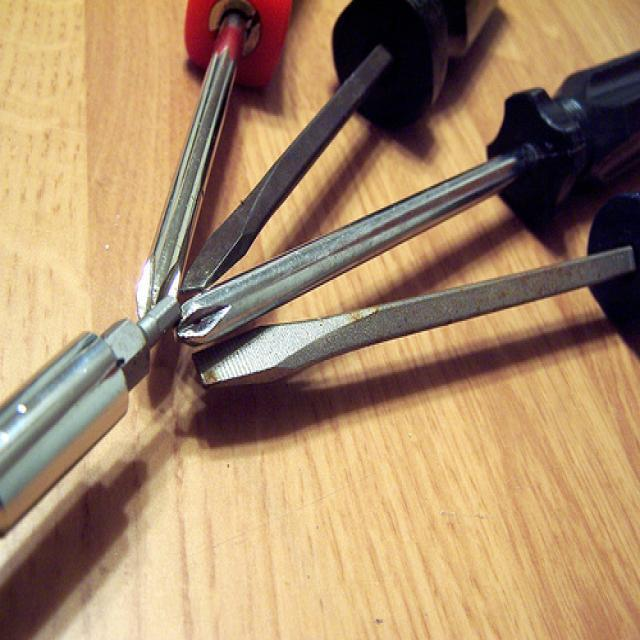screwdriver: (178, 58, 640, 351), (197, 178, 640, 479), (172, 0, 499, 311), (125, 0, 297, 319)
